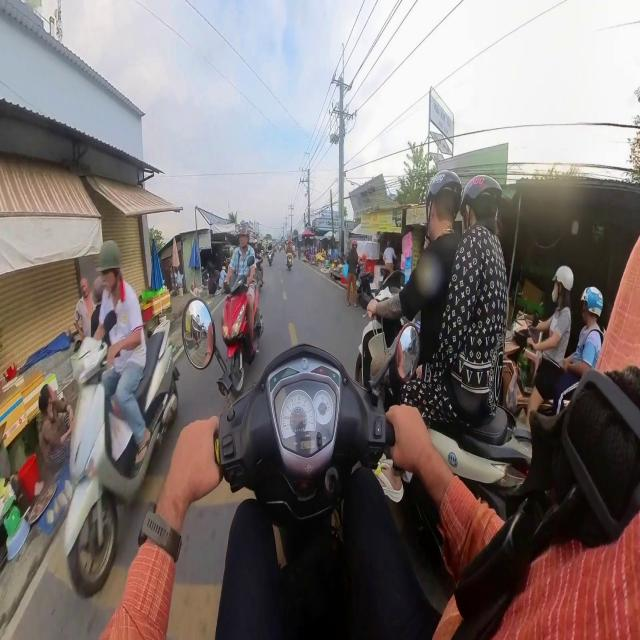motorcycle: (215, 345, 394, 637), (64, 321, 178, 596), (222, 275, 263, 395), (286, 254, 292, 270), (268, 251, 273, 266)
